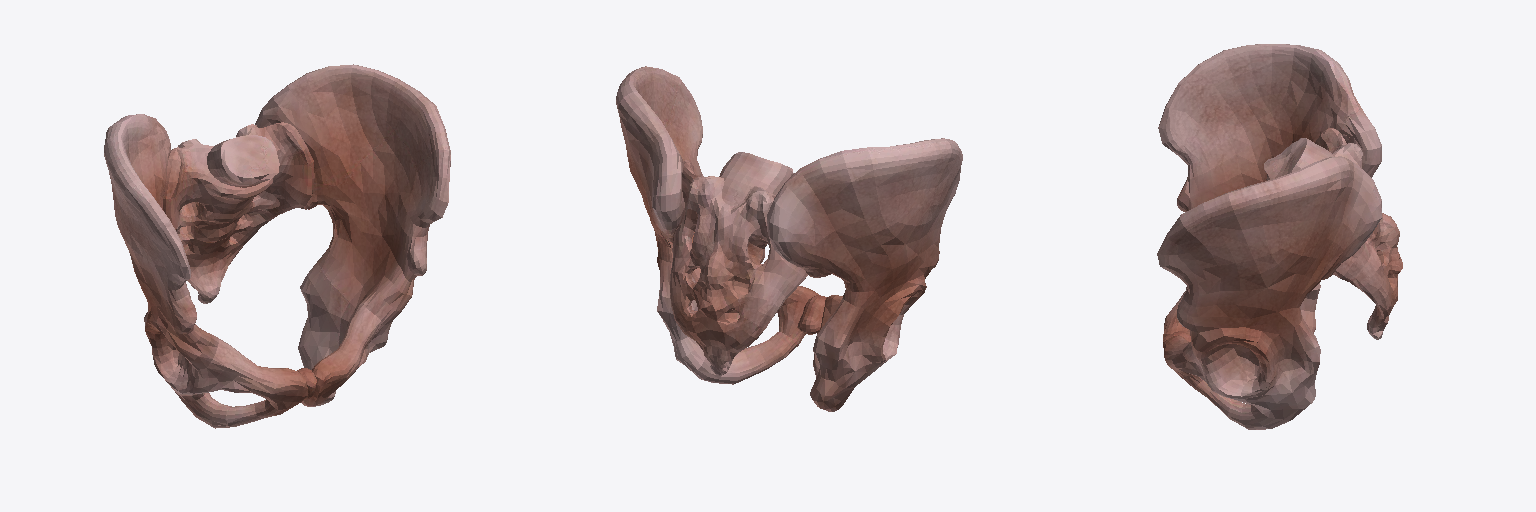
3 renders of one model, left to right at view 1: azimuth 30°, elevation 25°; view 2: azimuth 150°, elevation 25°; view 3: azimuth 270°, elevation 25°, orthographic.
Parts seen in each view (by area): view 1: pelvis; view 2: pelvis; view 3: pelvis.
Part boxes in pixels (bbox=[...]): pelvis: bbox=[104, 64, 450, 428]; pelvis: bbox=[616, 66, 962, 411]; pelvis: bbox=[1157, 44, 1402, 429].
Bounding box in the file's own units: 1.76 × 1.6 × 1.19.
Materials: 1 (1 with a texture image).